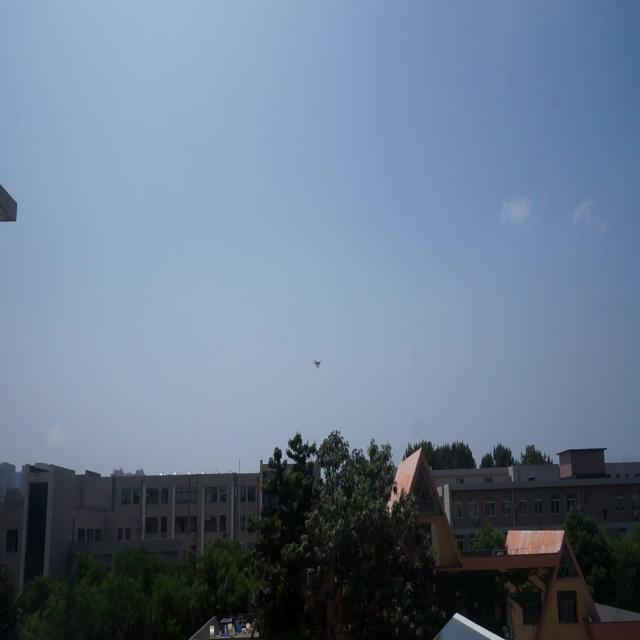drone: (310, 354, 324, 370)
